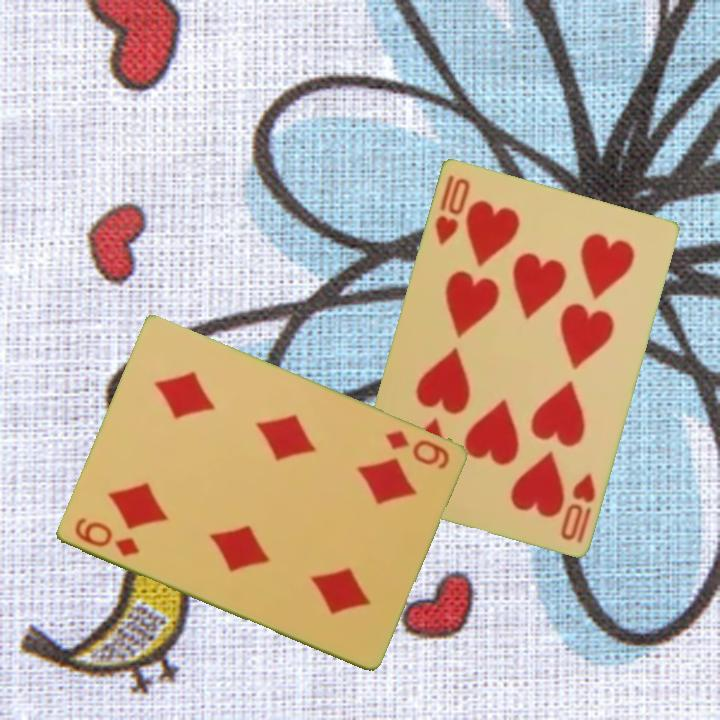10h: (556, 468, 598, 546), (431, 171, 473, 247)
6d: (70, 514, 142, 560), (380, 427, 452, 472)
